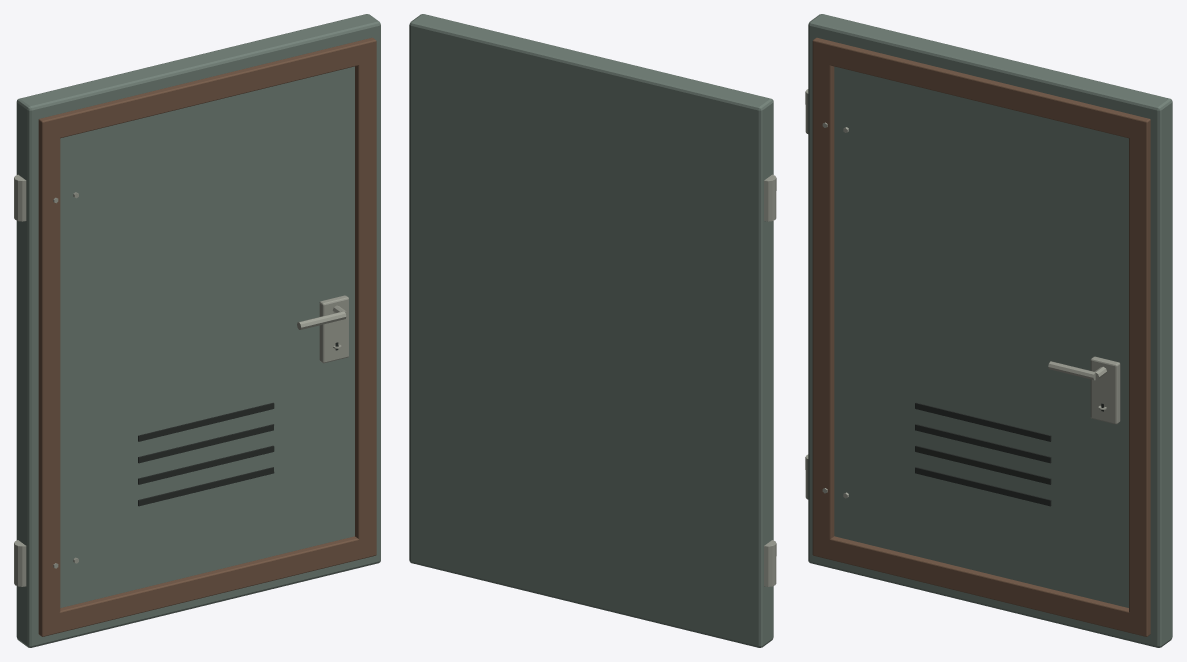
The model's file is door_steel_low.glb.
3 views of the same model, side by side, from view 1: azimuth 30°, elevation 25°; view 2: azimuth 150°, elevation 25°; view 3: azimuth 330°, elevation 25° (orthographic).
Visible parts, largest first — view 1: door_steel.001; view 2: door_steel.001; view 3: door_steel.001.
Boxes of the visible parts, x1,y1,x2,y2 form: door_steel.001: (14,14,380,647); door_steel.001: (409,14,776,647); door_steel.001: (805,14,1172,647).
Size of the model in its own units: 1.75 by 2.52 by 0.2455.
